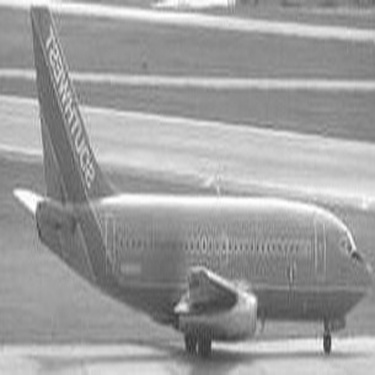airplane: (16, 7, 368, 370)
